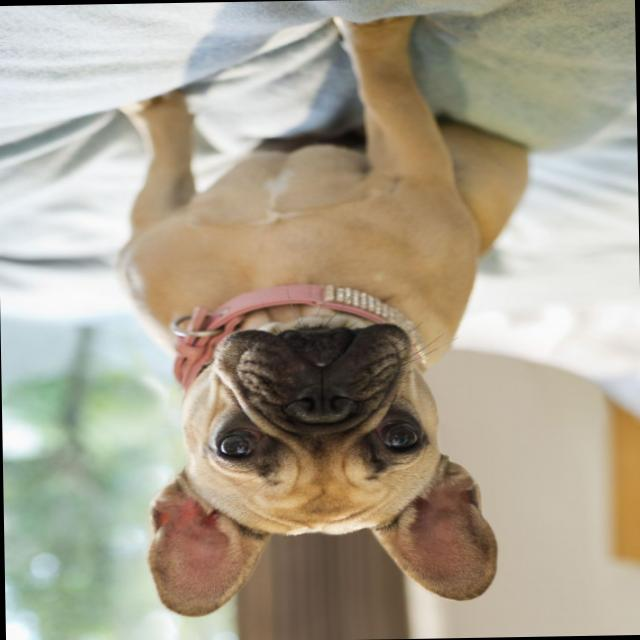dogs: (109, 12, 546, 622)
